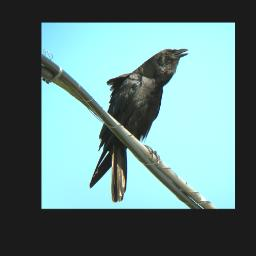Crow: (89, 47, 189, 204)
